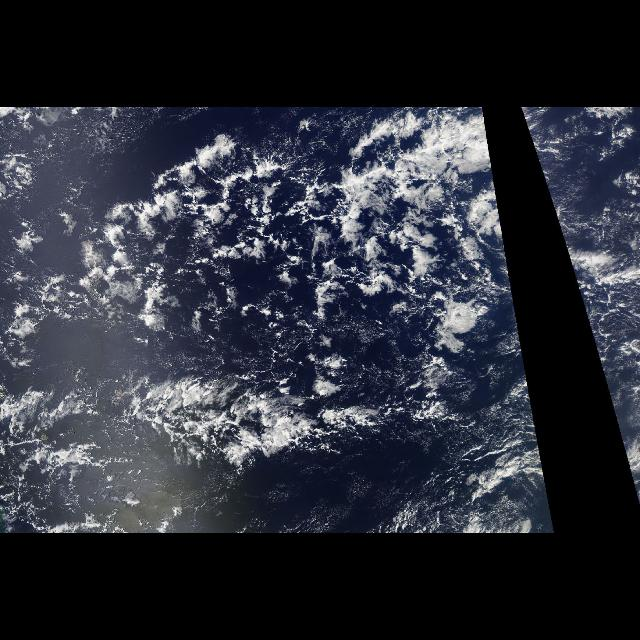Flower: (128, 140, 496, 358)
